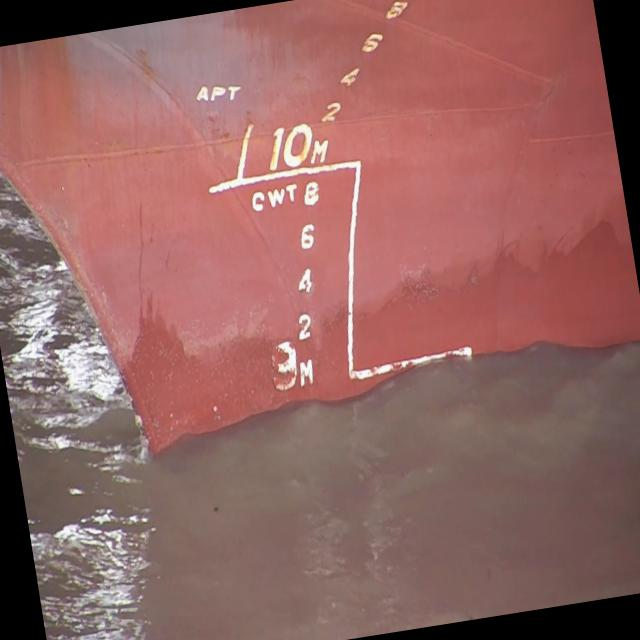Ship Draft Marks: (279, 123, 317, 170), (268, 340, 302, 392), (262, 127, 290, 171), (308, 139, 332, 165), (360, 32, 386, 54), (298, 224, 318, 252), (302, 181, 322, 207), (384, 0, 410, 20), (296, 313, 314, 341), (318, 102, 342, 123), (297, 359, 315, 386), (296, 268, 314, 295), (338, 68, 362, 88)
